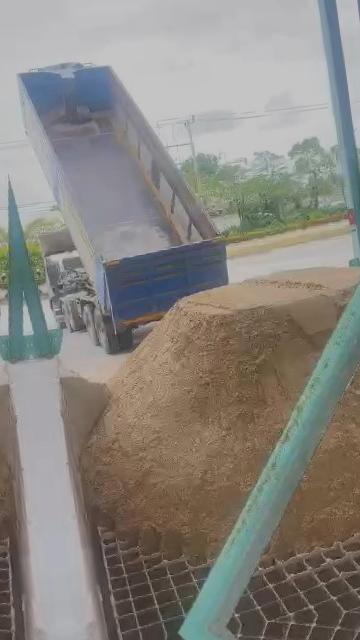sand: (84, 268, 359, 555), (274, 320, 360, 555), (61, 367, 110, 460)
